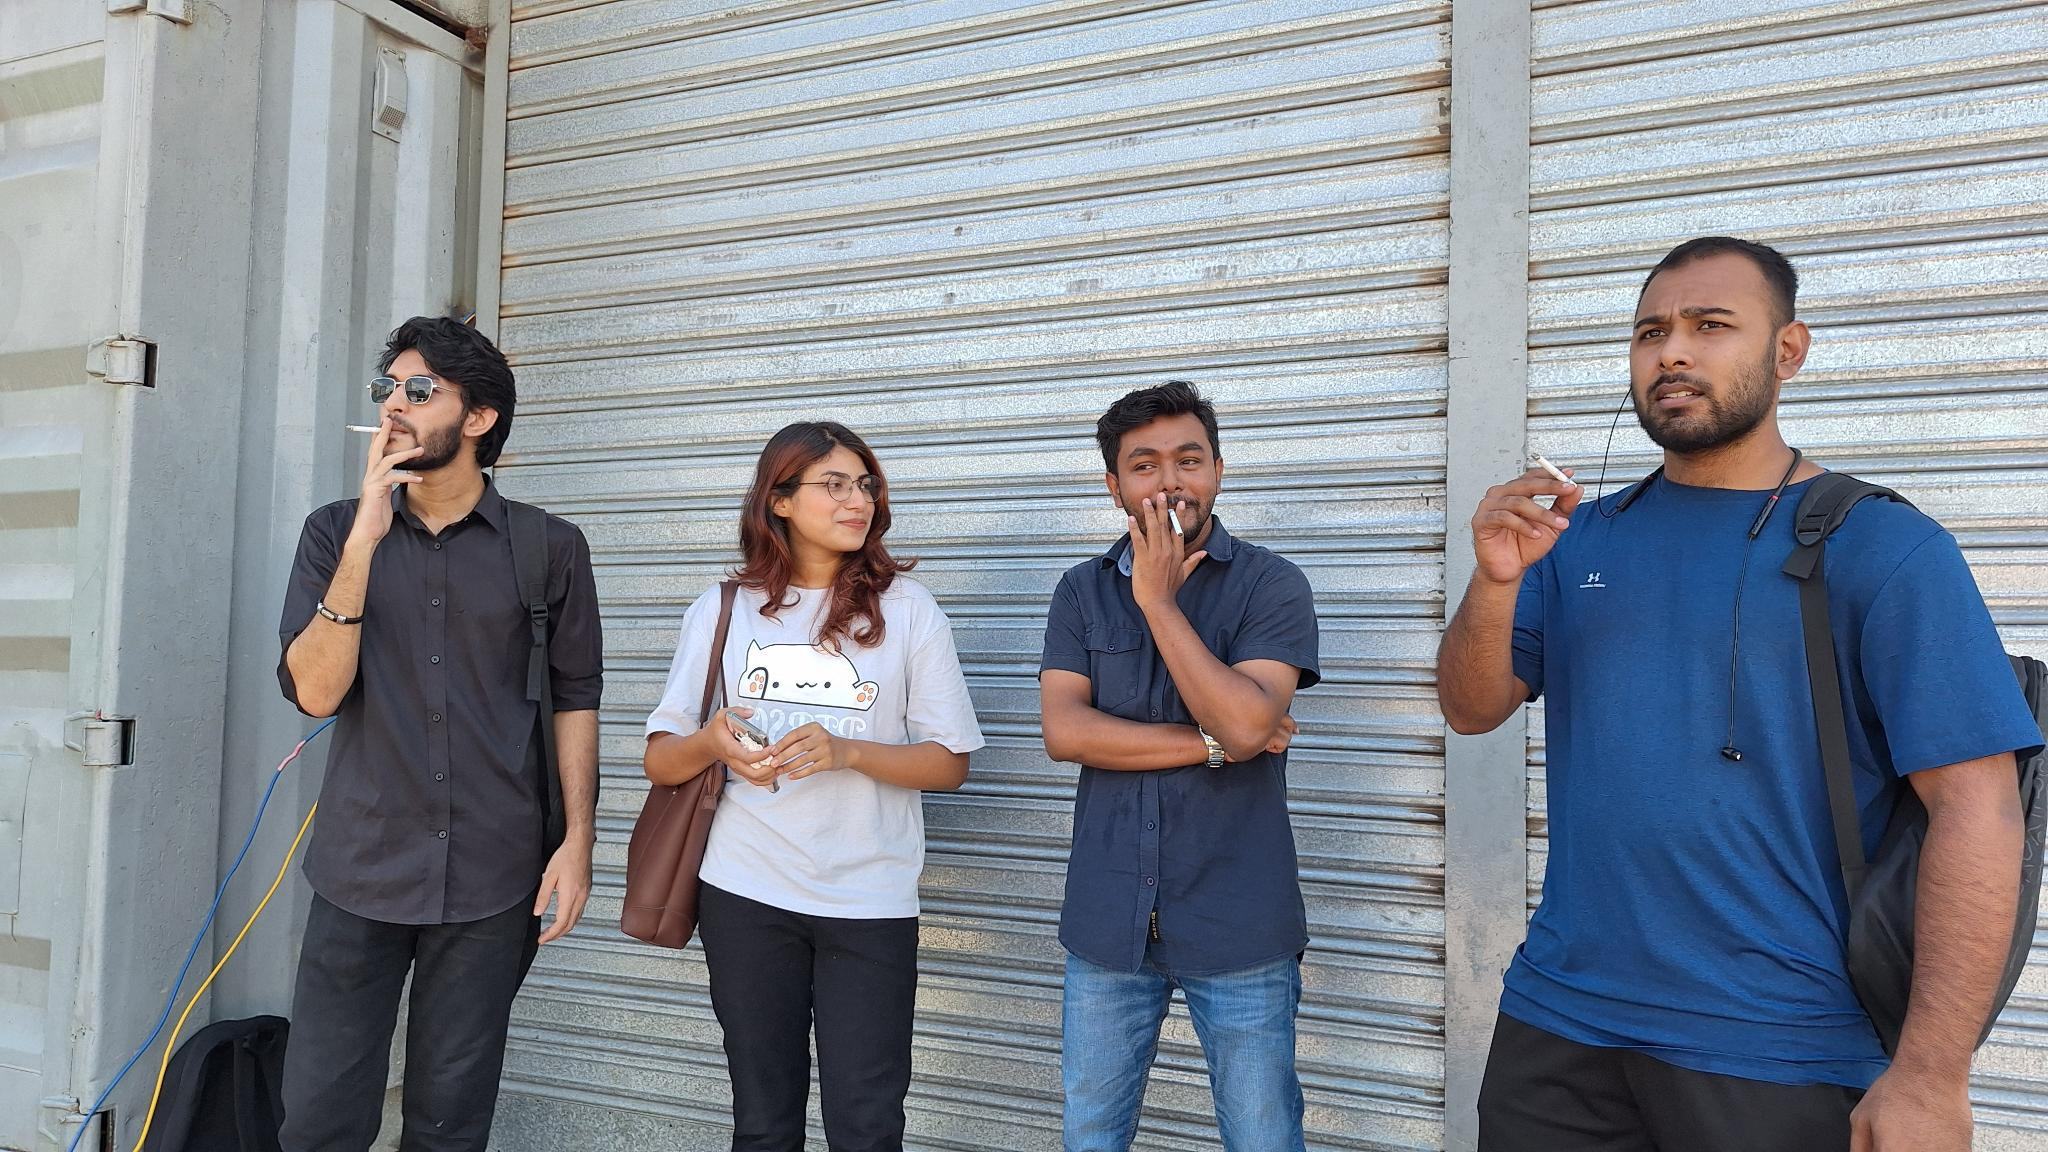cigarette: (1529, 452, 1580, 491), (1165, 506, 1184, 539), (345, 423, 384, 435)
nonSmoker: (619, 421, 986, 1152)
smoker: (1436, 235, 2048, 1152), (276, 316, 603, 1152), (1038, 381, 1324, 1152)
